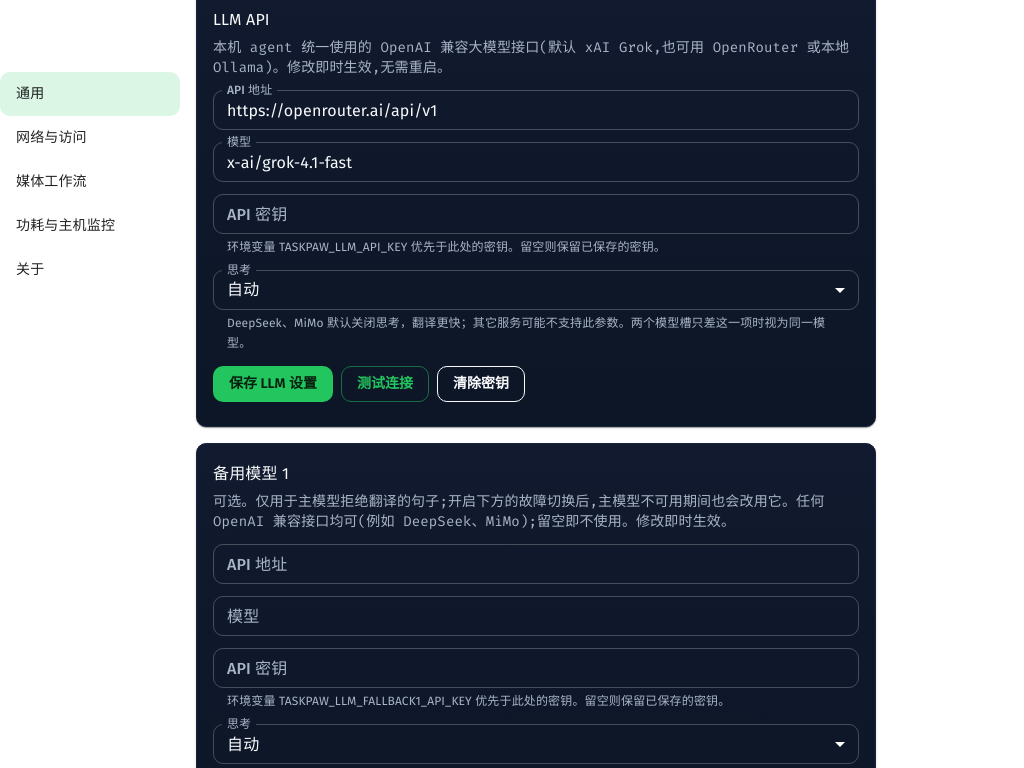
Test case: Settings LLM API card › T-U2 Clear key patches llm_api_key: null
(page scrolled)
Check: the field labelled "模型" below "LLM API" is shown, box [213,142,859,182]
Step 1. Click the button "清除密钥" → x=481, y=384, box [437,366,525,402]
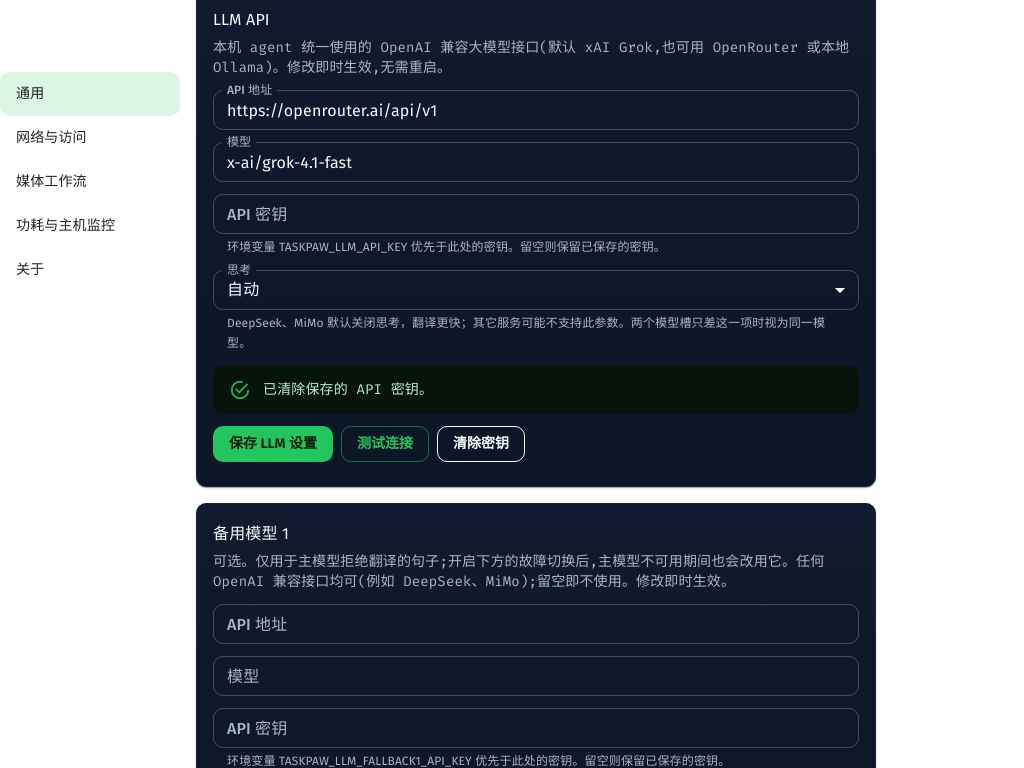
Check: the text "已清除保存的 API 密钥。" is shown, box [263,380,433,399]
